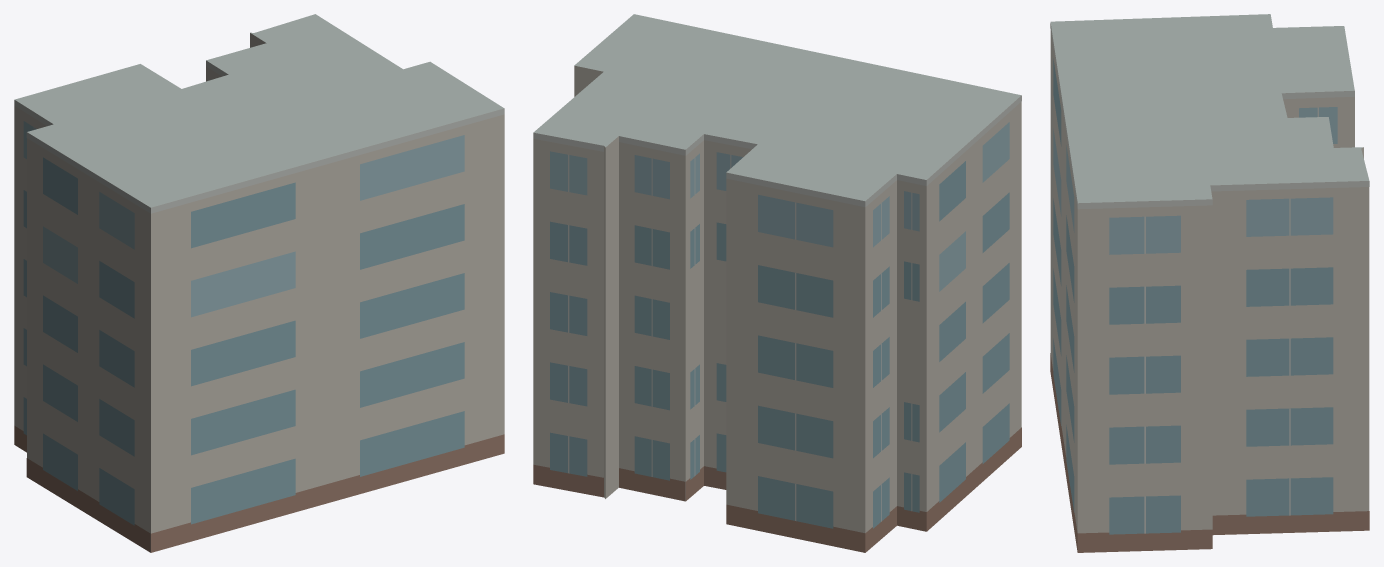
Rendered from survey-upis-32732765.glb.
3 renders of one model, left to right at view 1: azimuth 30°, elevation 25°; view 2: azimuth 150°, elevation 25°; view 3: azimuth 270°, elevation 25°, orthographic.
Visible parts, largest first — view 1: survey-upis-32732765.tmp; view 2: survey-upis-32732765.tmp; view 3: survey-upis-32732765.tmp.
Part boxes in pixels (x1=…): survey-upis-32732765.tmp: x1=14, y1=14, x2=504, y2=552; survey-upis-32732765.tmp: x1=533, y1=14, x2=1021, y2=552; survey-upis-32732765.tmp: x1=1050, y1=14, x2=1369, y2=552.
Size of the model in its own units: 16.36 by 14.1 by 11.67.
